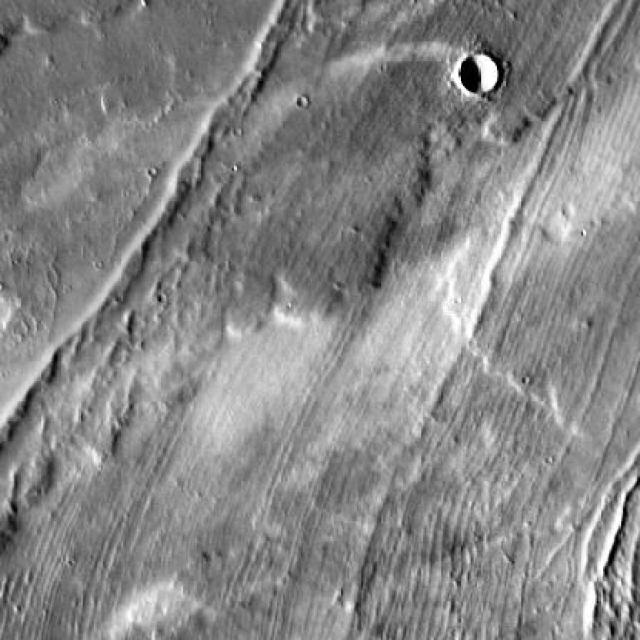crater: (460, 54, 498, 92)
